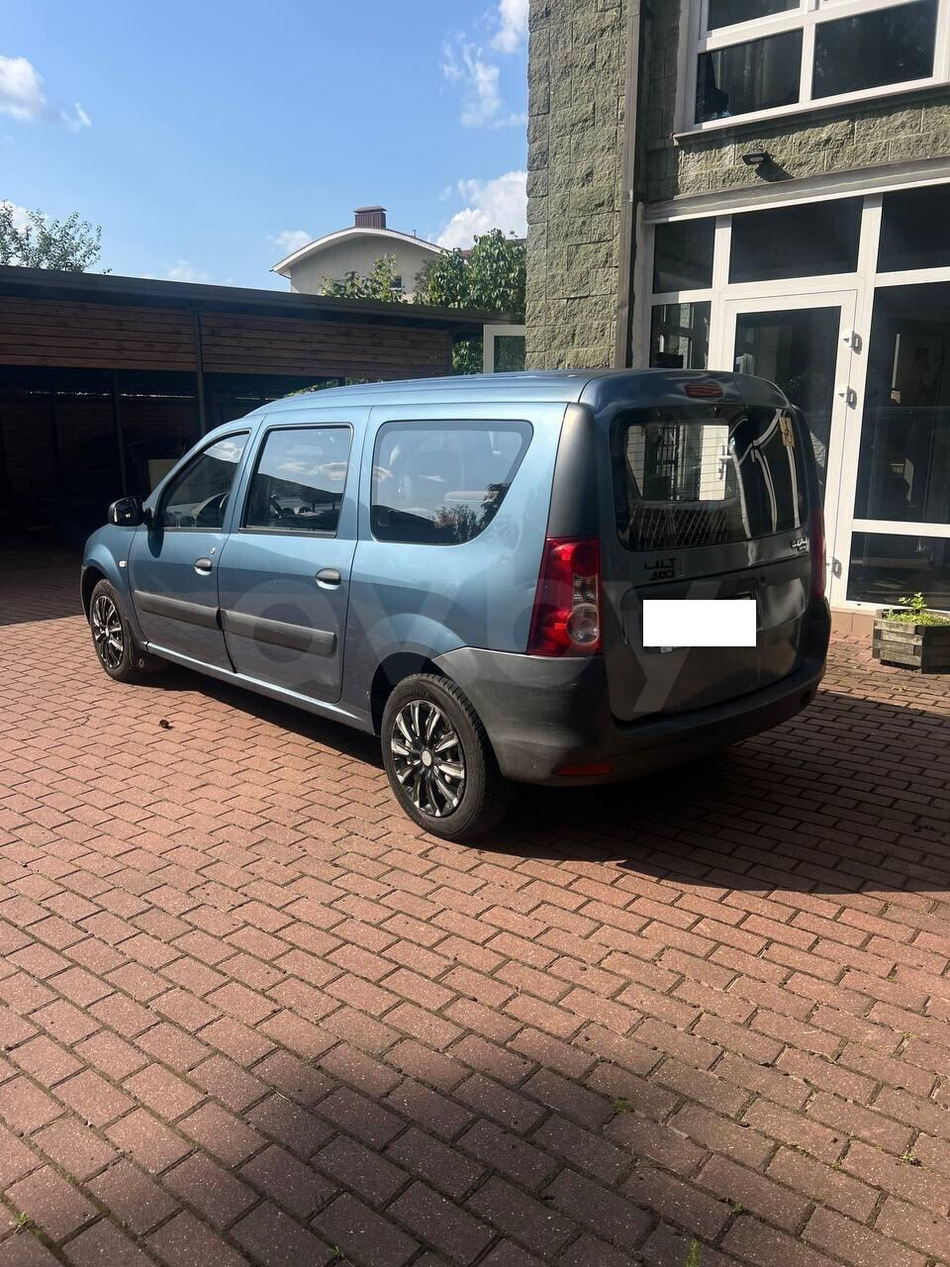Logan_2008-2015: (86, 371, 841, 850)
